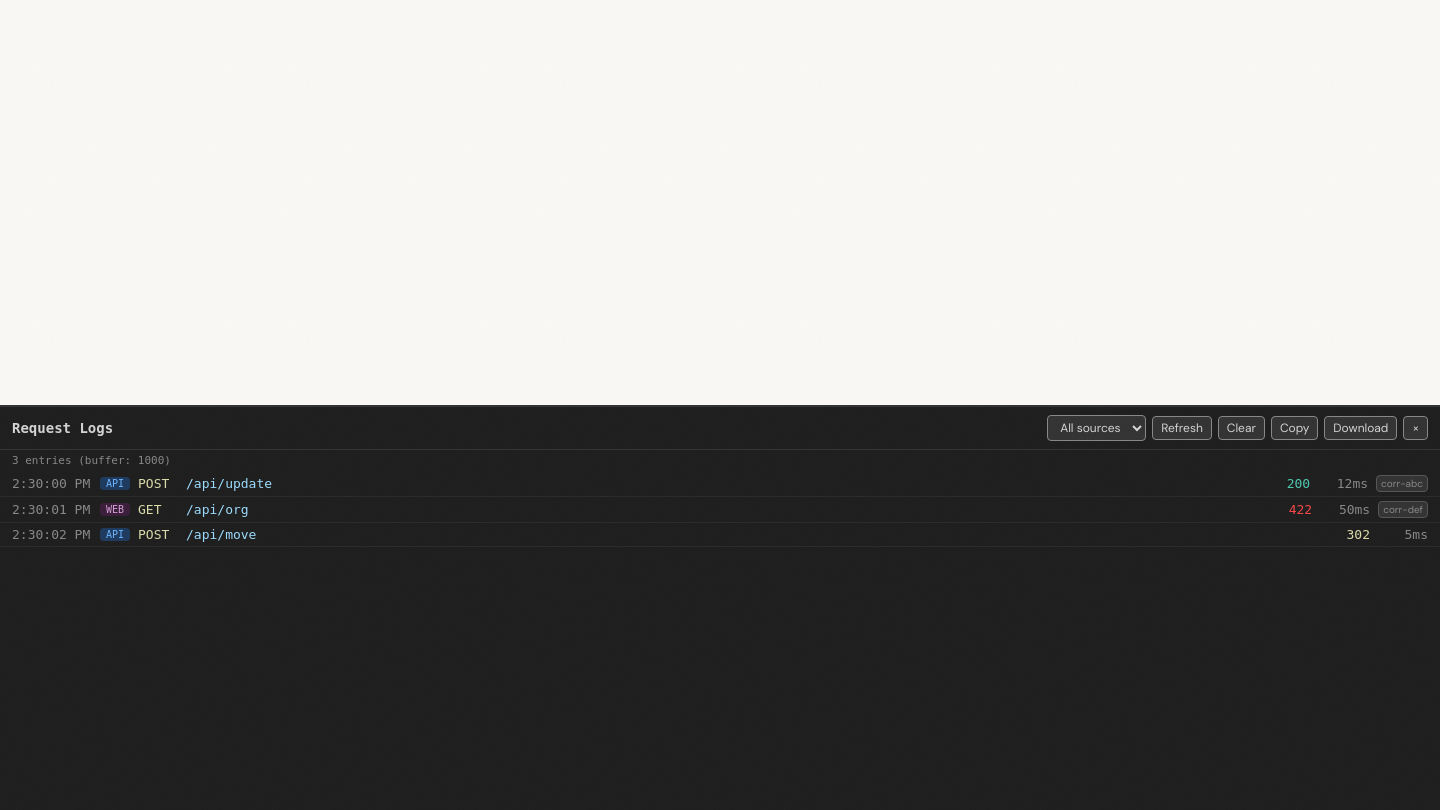
Test case: LogPanel — branch coverage › expands entry on click to show request body
This screenshot has width=1440, height=810.
// Find the entry row by its path content
Click the button "/api/update" at point(51, 484), box x1=0 y1=471 x2=1439 y2=496
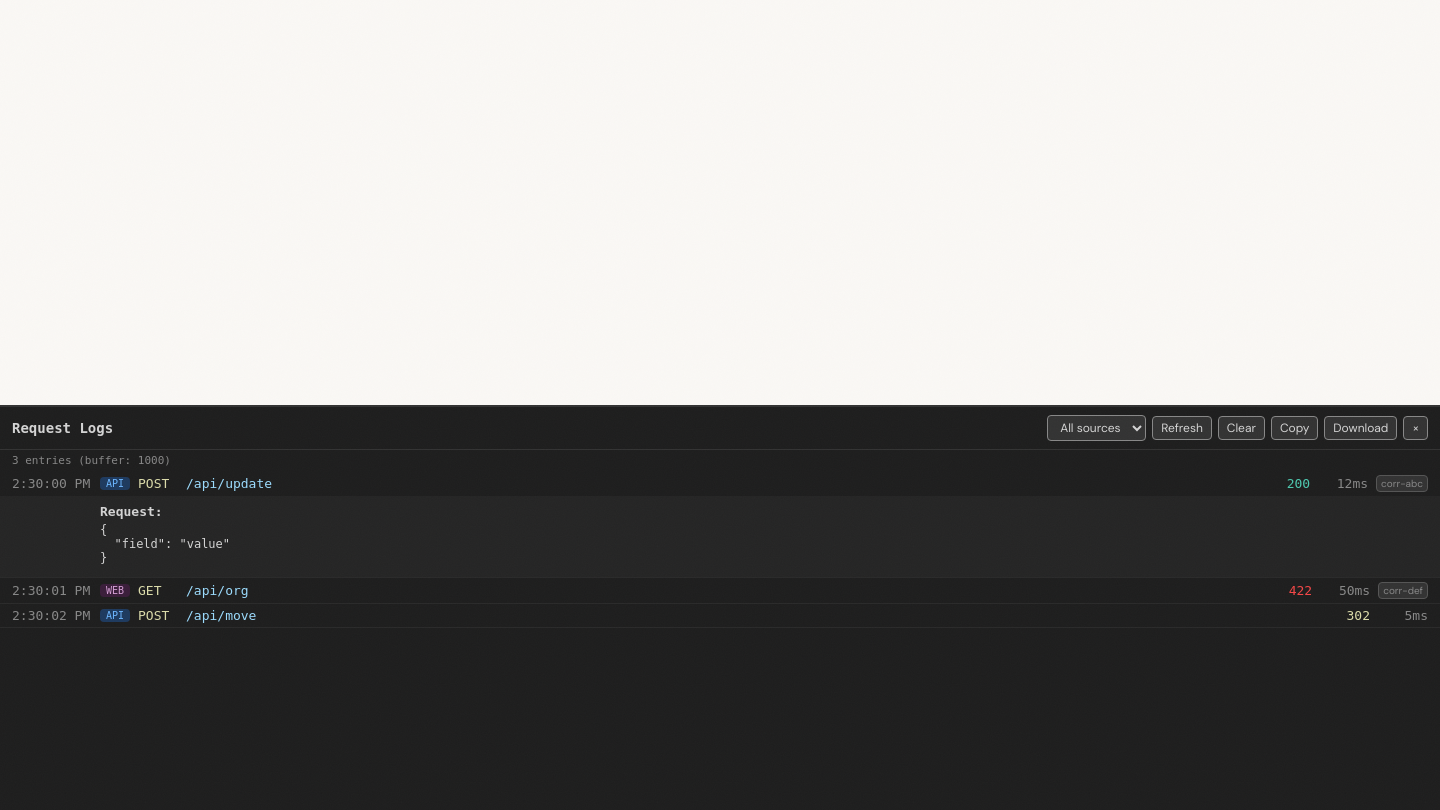
Expected: the text "Request:" is shown, x1=100 y1=504 x2=163 y2=519
